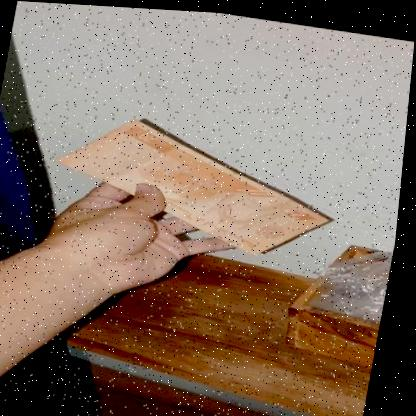twenty-back-vef: (47, 106, 350, 263)
